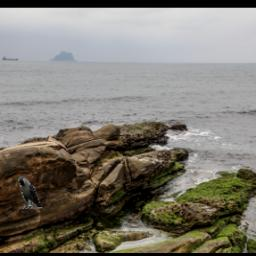Crow: (17, 176, 41, 209)
